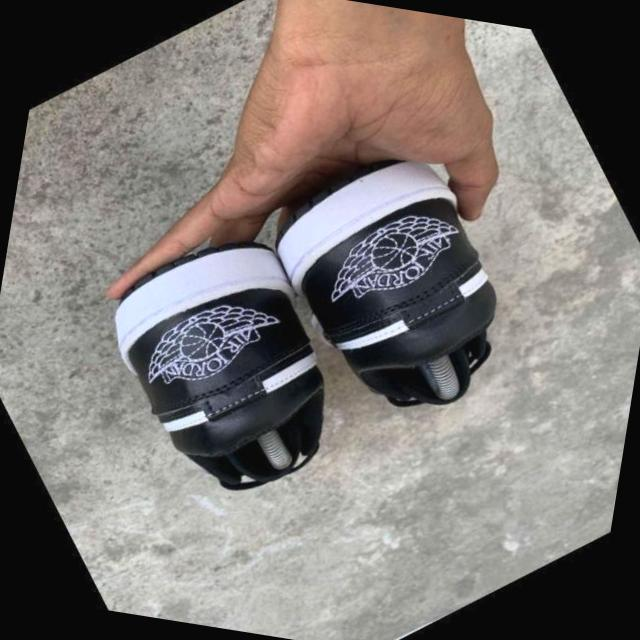nike_fake_jordan: (59, 194, 402, 548), (222, 114, 564, 468)
